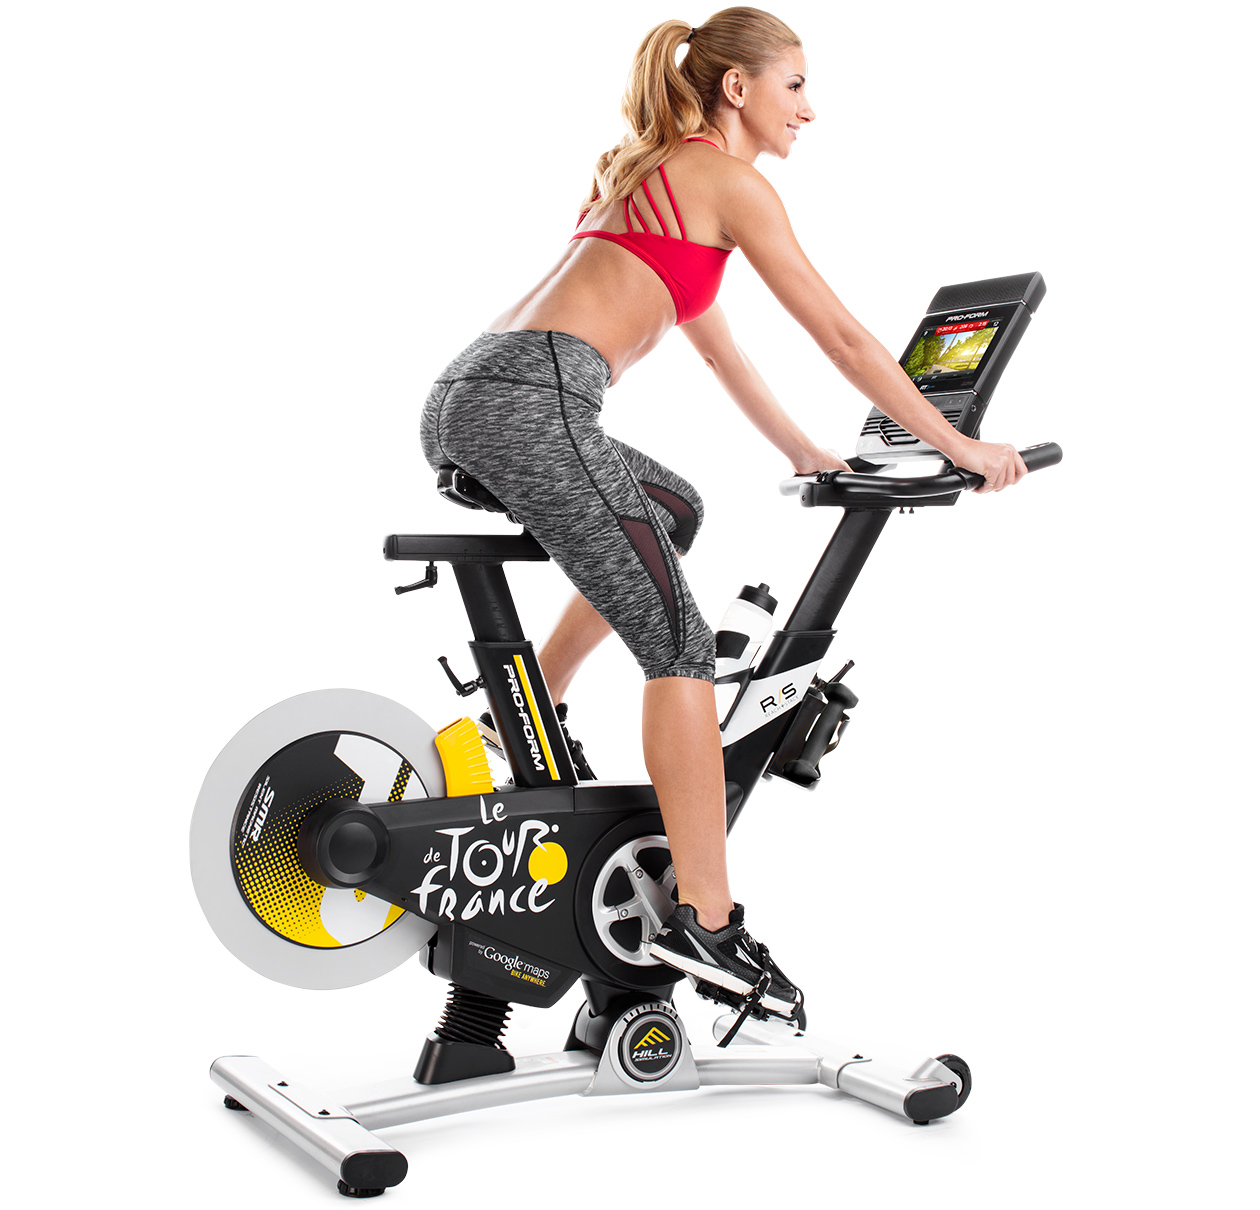gym_bike: (170, 250, 1059, 1200)
